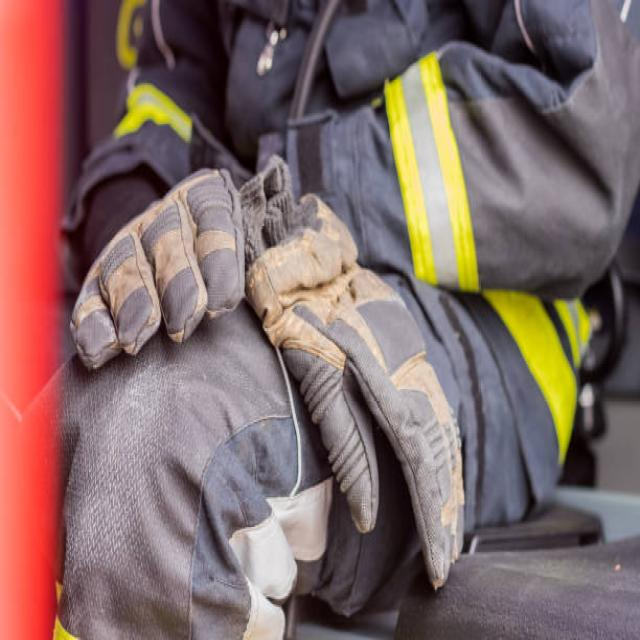Gloves: (238, 148, 476, 586), (64, 150, 245, 378)
